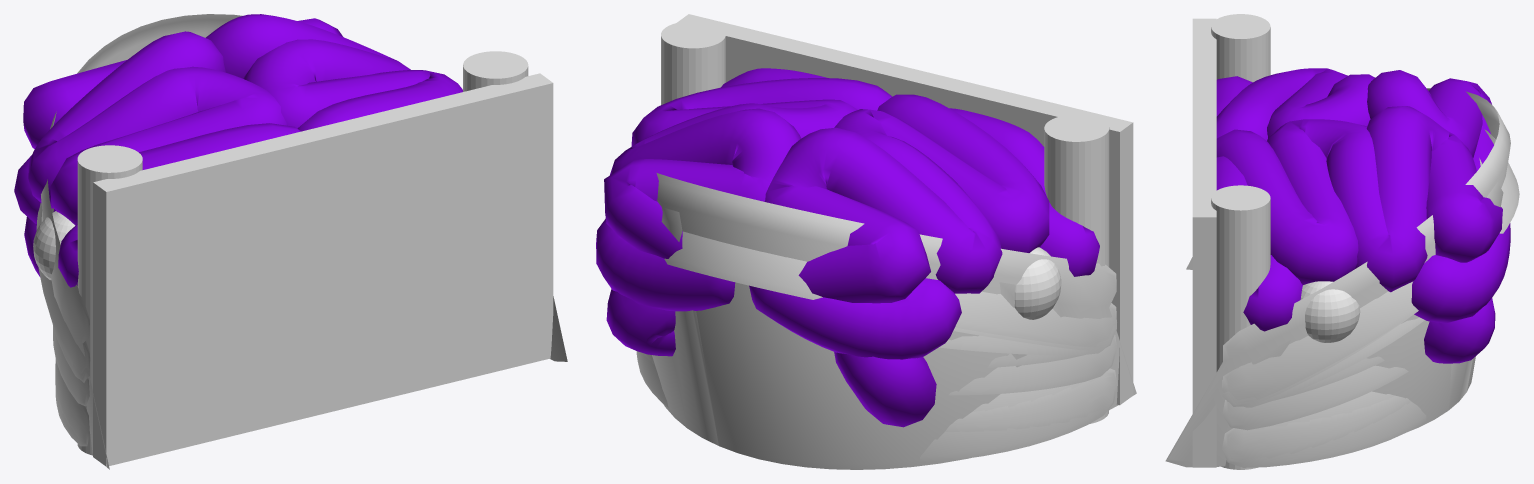
Rendered from Occipital.fbx.
The picture shows the model from 3 angles, left to right: view 1: azimuth 30°, elevation 25°; view 2: azimuth 150°, elevation 25°; view 3: azimuth 270°, elevation 25°; orthographic projection. The views are drawn at different scales.
Visible parts, largest first — view 1: Cube, L Occipital, R Occipital, Cylinder.004, Cylinder.010, Cylinder.009, Cylinder.007, Sphere.001, Cylinder, Cylinder.001; view 2: L Occipital, Cylinder.004, R Occipital, Cube, Cylinder.007, Cylinder.010, Cylinder, Cylinder.009, Cylinder.001, Sphere.001, Cylinder.005, Cylinder.003 (+3 smaller); view 3: R Occipital, Cylinder.004, L Occipital, Cube, Cylinder.009, Cylinder.007, Cylinder, Cylinder.001, Cylinder.010, Sphere.002, Cylinder.005, Cylinder.002 (+3 smaller).
Boxes of the visible parts, x1=… form: Cube: x1=93, y1=73, x2=553, y2=466; L Occipital: x1=14, y1=31, x2=300, y2=287; R Occipital: x1=205, y1=14, x2=462, y2=131; Cylinder.004: x1=41, y1=14, x2=567, y2=469; Cylinder.010: x1=77, y1=145, x2=142, y2=455; Cylinder.009: x1=463, y1=51, x2=528, y2=91; Cylinder.007: x1=36, y1=203, x2=89, y2=373; Sphere.001: x1=33, y1=211, x2=75, y2=280; Cylinder: x1=55, y1=359, x2=89, y2=446; Cylinder.001: x1=53, y1=326, x2=89, y2=406; L Occipital: x1=749, y1=94, x2=1099, y2=427; Cylinder.004: x1=652, y1=173, x2=1136, y2=469; R Occipital: x1=596, y1=68, x2=892, y2=356; Cube: x1=677, y1=14, x2=1133, y2=405; Cylinder.007: x1=664, y1=231, x2=1116, y2=347; Cylinder.010: x1=1044, y1=114, x2=1109, y2=423; Cylinder: x1=636, y1=351, x2=1116, y2=462; Cylinder.009: x1=661, y1=21, x2=725, y2=104; Cylinder.001: x1=949, y1=335, x2=1116, y2=395; Sphere.001: x1=1014, y1=247, x2=1061, y2=319; Cylinder.005: x1=643, y1=353, x2=1116, y2=431; Cylinder.003: x1=939, y1=328, x2=1116, y2=355; R Occipital: x1=1216, y1=106, x2=1510, y2=363; Cylinder.004: x1=1165, y1=88, x2=1510, y2=467; L Occipital: x1=1216, y1=68, x2=1493, y2=170; Cube: x1=1192, y1=18, x2=1216, y2=467; Cylinder.009: x1=1211, y1=185, x2=1270, y2=469; Cylinder.007: x1=1223, y1=129, x2=1519, y2=399; Cylinder: x1=1222, y1=396, x2=1426, y2=467; Cylinder.001: x1=1222, y1=365, x2=1408, y2=430; Cylinder.010: x1=1211, y1=14, x2=1270, y2=82; Sphere.002: x1=1300, y1=281, x2=1360, y2=342; Cylinder.005: x1=1222, y1=391, x2=1411, y2=461; Cylinder.002: x1=1222, y1=393, x2=1406, y2=458.
Size of the model in its own units: 47405 by 30813 by 35200.
